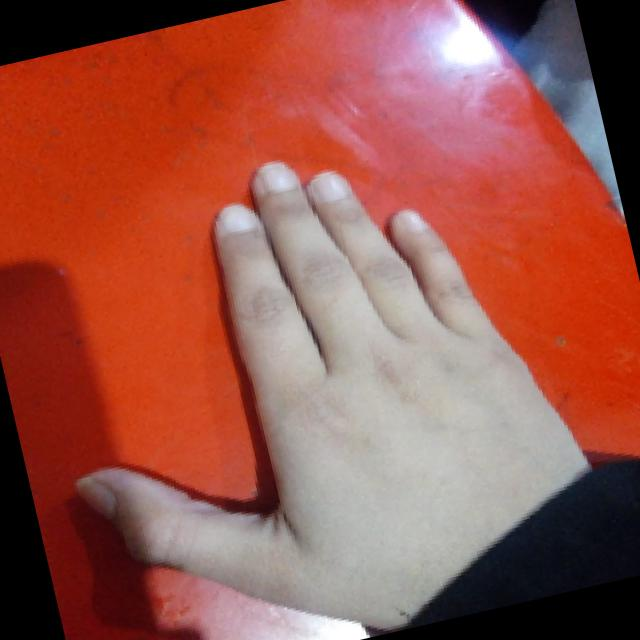Nail: (77, 475, 116, 518), (260, 160, 299, 192), (312, 172, 351, 201), (220, 203, 258, 232), (393, 208, 427, 231)
